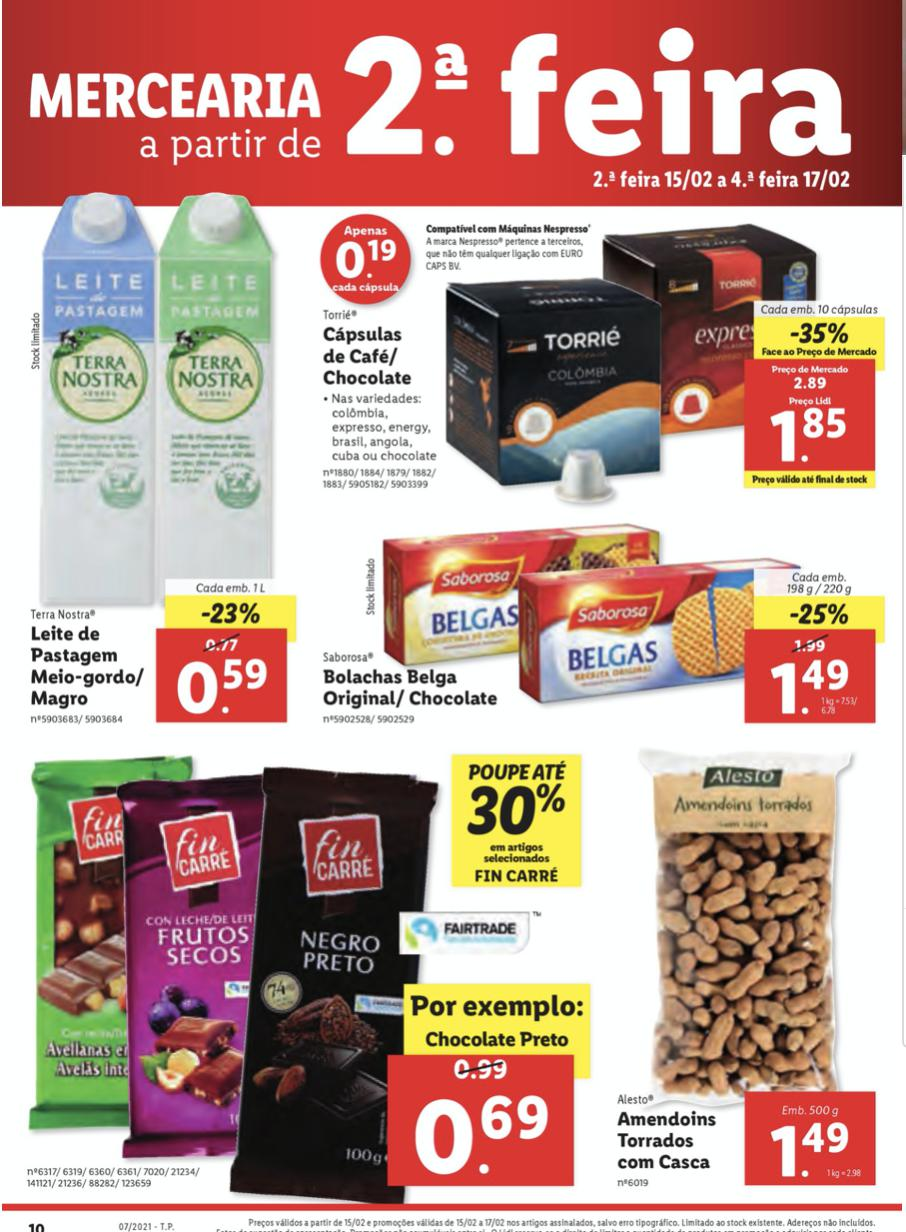name: (25, 621, 144, 707), (322, 666, 505, 711), (619, 1109, 721, 1177), (321, 323, 417, 394)
price: (417, 1091, 553, 1183), (765, 398, 859, 472), (765, 652, 854, 724), (176, 652, 270, 718), (774, 1120, 865, 1180)
product: (19, 744, 597, 1192), (316, 211, 893, 504), (17, 186, 305, 732), (316, 511, 893, 738), (611, 746, 894, 1197)
promotion: (464, 783, 574, 838), (194, 595, 262, 629), (787, 318, 854, 347)
